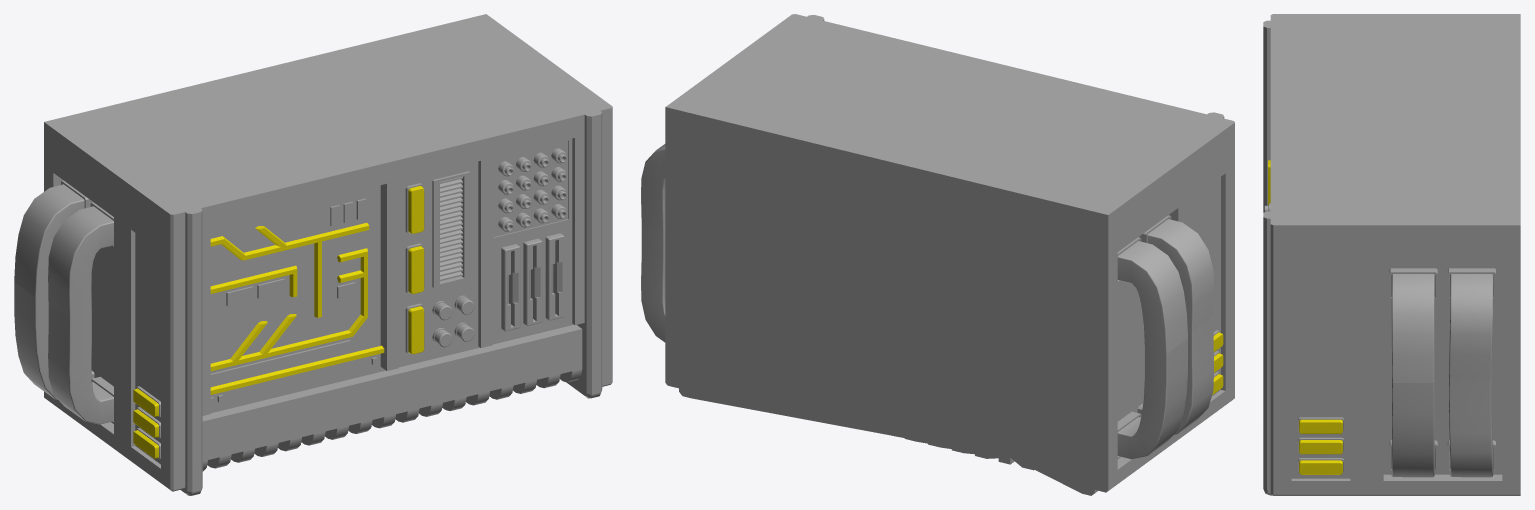
Rendered from SM_Robot.fbx.
3 renders of one model, left to right at view 1: azimuth 30°, elevation 25°; view 2: azimuth 150°, elevation 25°; view 3: azimuth 270°, elevation 25°, orthographic. The views are drawn at different scales.
Parts seen in each view (by area): view 1: Main, Cable_02, Tubing, Cable_01, Plates, Flaps, Lamp_03, Lamp_01, Lamp_02, Row_03, Row_01, Row_02 (+1 smaller); view 2: Main, Cable_01, Cable_02, Cable_04; view 3: Main, Cable_03, Cable_04, Lamp_Side_02, Lamp_Side_03, Lamp_Side_01.
Part boxes in pixels (x1,y1,x2,y2): Main: (44,14,612,495); Cable_02: (48,202,113,424); Tubing: (210,223,384,394); Cable_01: (14,180,94,399); Plates: (210,198,377,404); Flaps: (440,176,462,281); Lamp_03: (405,303,424,354); Lamp_01: (405,243,424,294); Lamp_02: (405,183,424,234); Row_03: (498,185,566,213); Row_01: (498,148,566,176); Row_02: (498,167,566,194); Main: (665,14,1234,495); Cable_01: (1117,237,1187,459); Cable_02: (1137,215,1213,434); Cable_04: (641,144,665,342); Main: (1263,14,1520,495); Cable_03: (1389,268,1437,477); Cable_04: (1447,268,1495,477); Lamp_Side_02: (1297,437,1344,454); Lamp_Side_03: (1297,417,1344,433); Lamp_Side_01: (1297,458,1344,474).
Bounding box in the file's own units: 0.0242 × 0.0123 × 0.0103.
